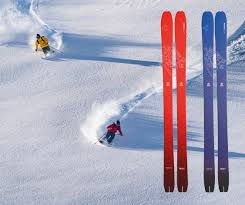skis: (159, 10, 190, 194), (200, 11, 231, 194), (40, 48, 61, 61), (98, 140, 113, 149)
